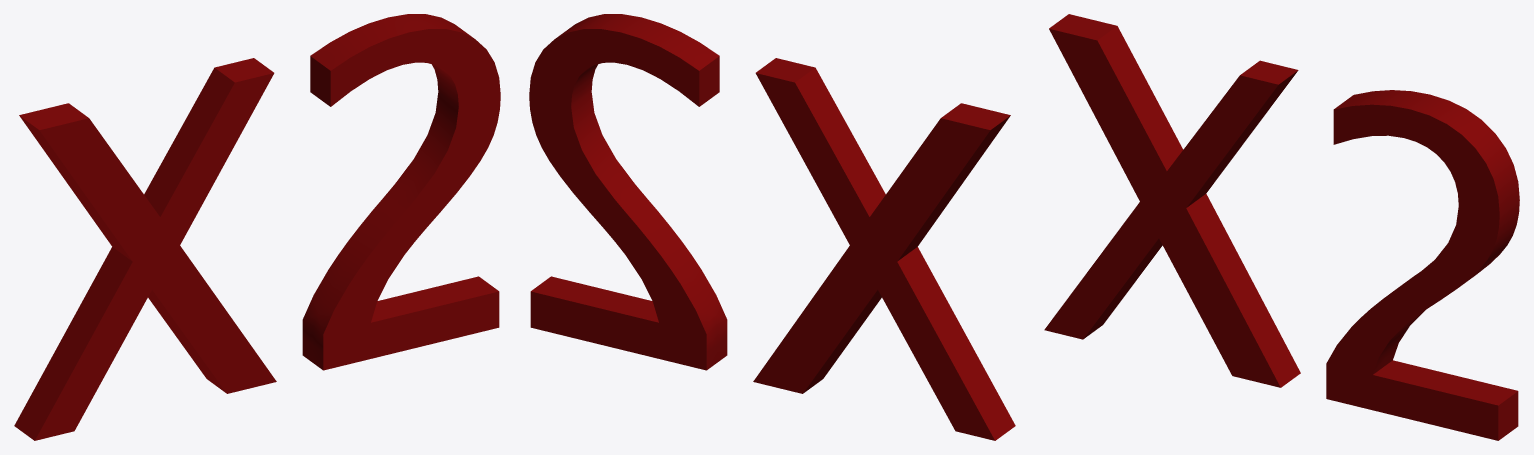
3 views of the same model, side by side, from view 1: azimuth 30°, elevation 25°; view 2: azimuth 150°, elevation 25°; view 3: azimuth 330°, elevation 25° (orthographic). The views are drawn at different scales.
Parts seen in each view (by area): view 1: typeMesh1; view 2: typeMesh1; view 3: typeMesh1.
Boxes of the visible parts, <box> form: typeMesh1: <box>14,14,500,440</box>; typeMesh1: <box>529,14,1015,440</box>; typeMesh1: <box>1044,14,1519,440</box>.
Bounding box in the file's own units: 14.79 × 9.62 × 1.13.
